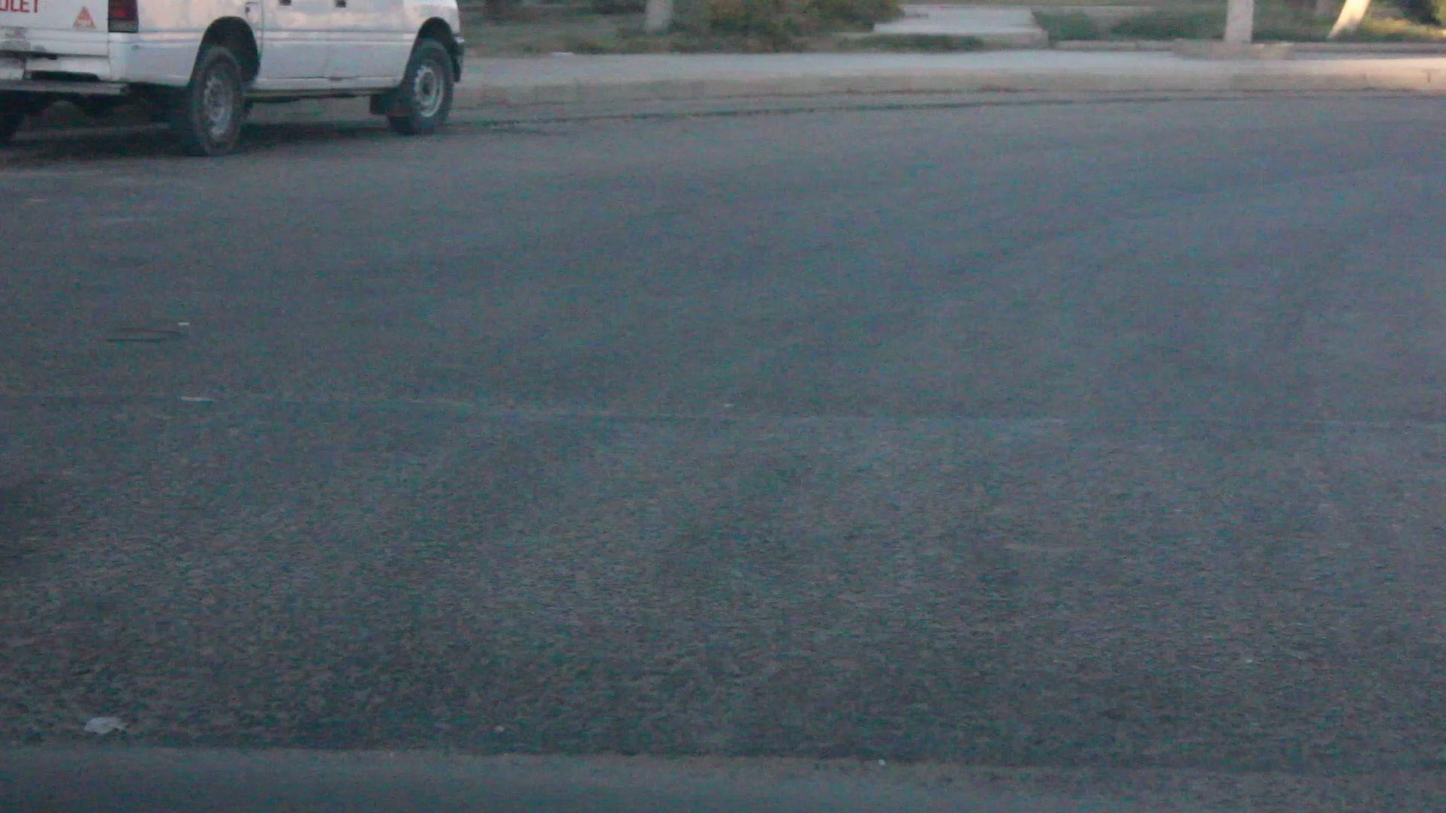Bump: (0, 215, 1446, 420)
